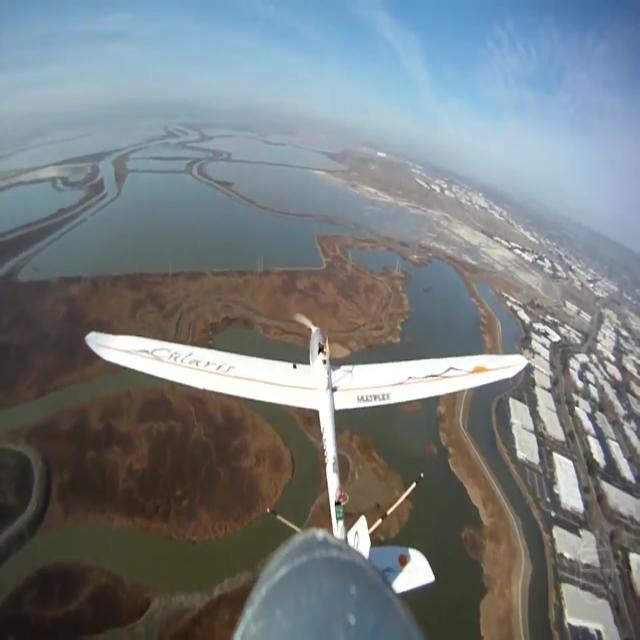iha: (83, 326, 532, 597)
